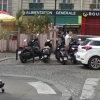Motorcycle: (11, 33, 66, 74)
